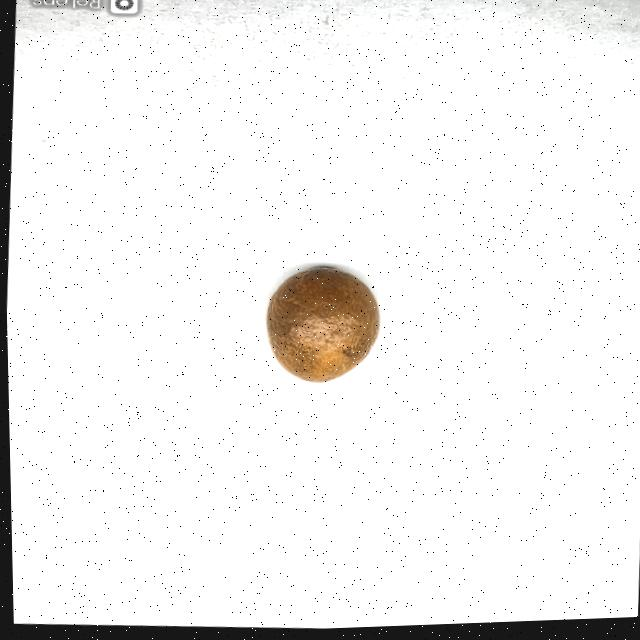Good bean: (262, 269, 382, 388)
